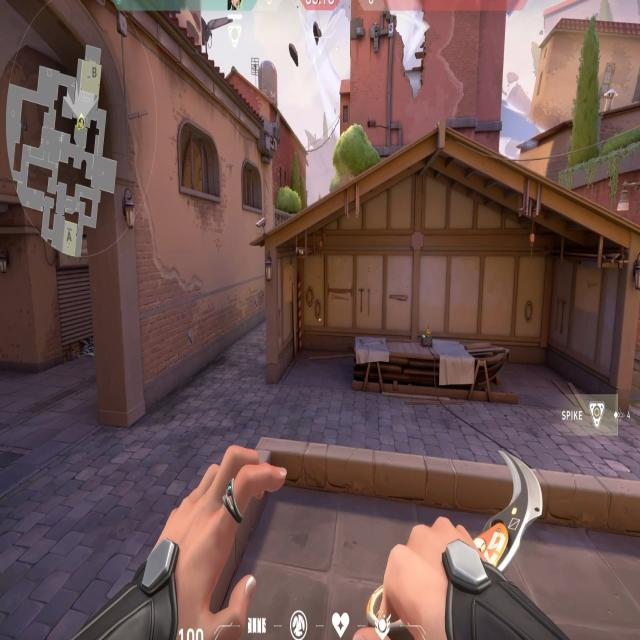B_Garage_Left: (264, 229, 378, 389)
Throwables: (172, 118, 226, 208), (240, 156, 264, 213)
